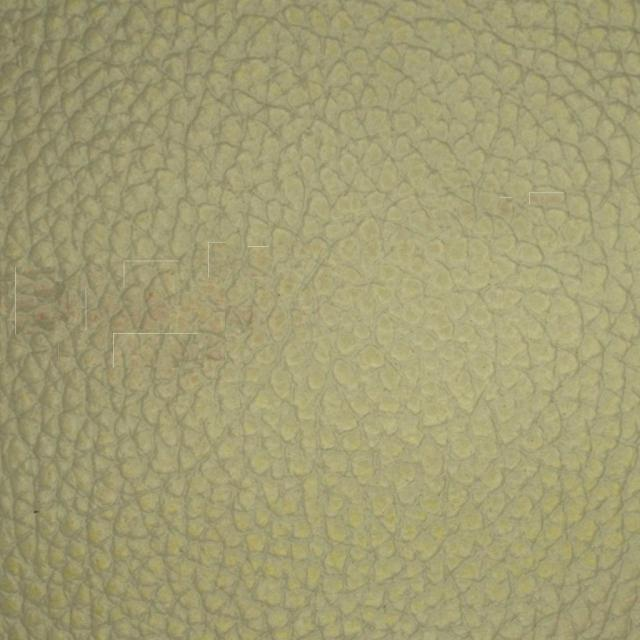Healed Injury: (102, 198, 329, 406)
